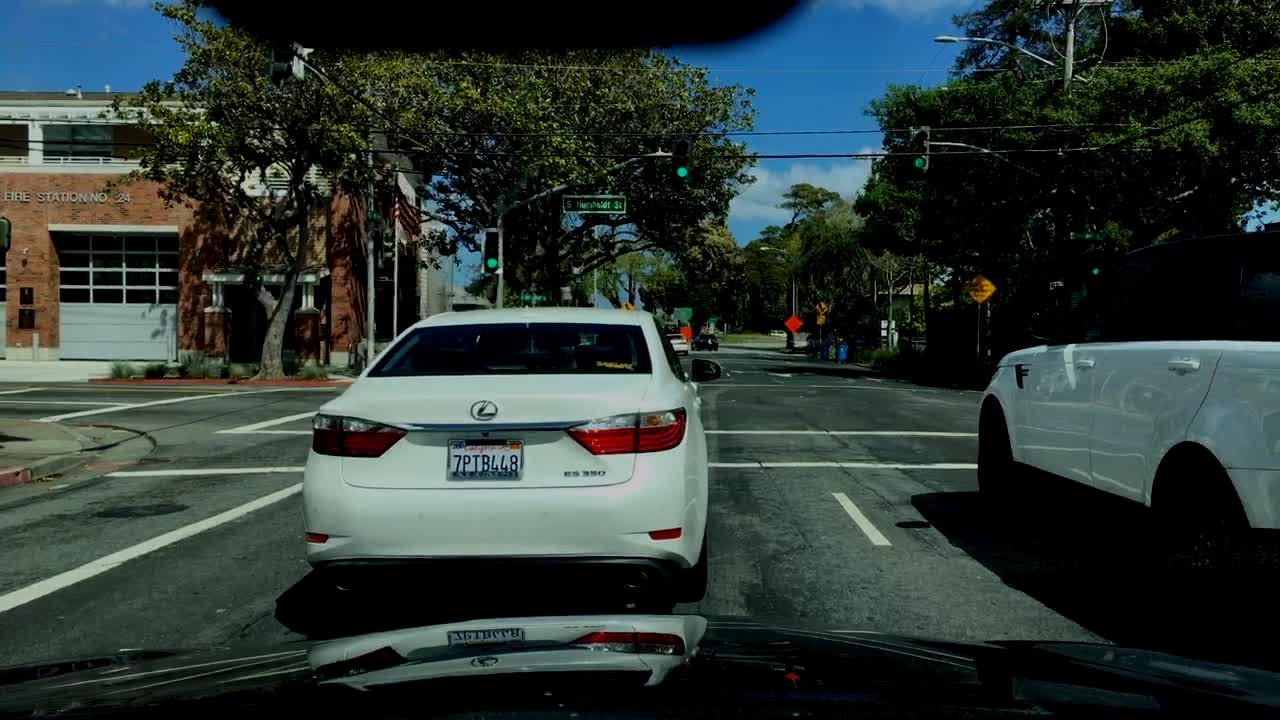lexus: (461, 392, 516, 427)
